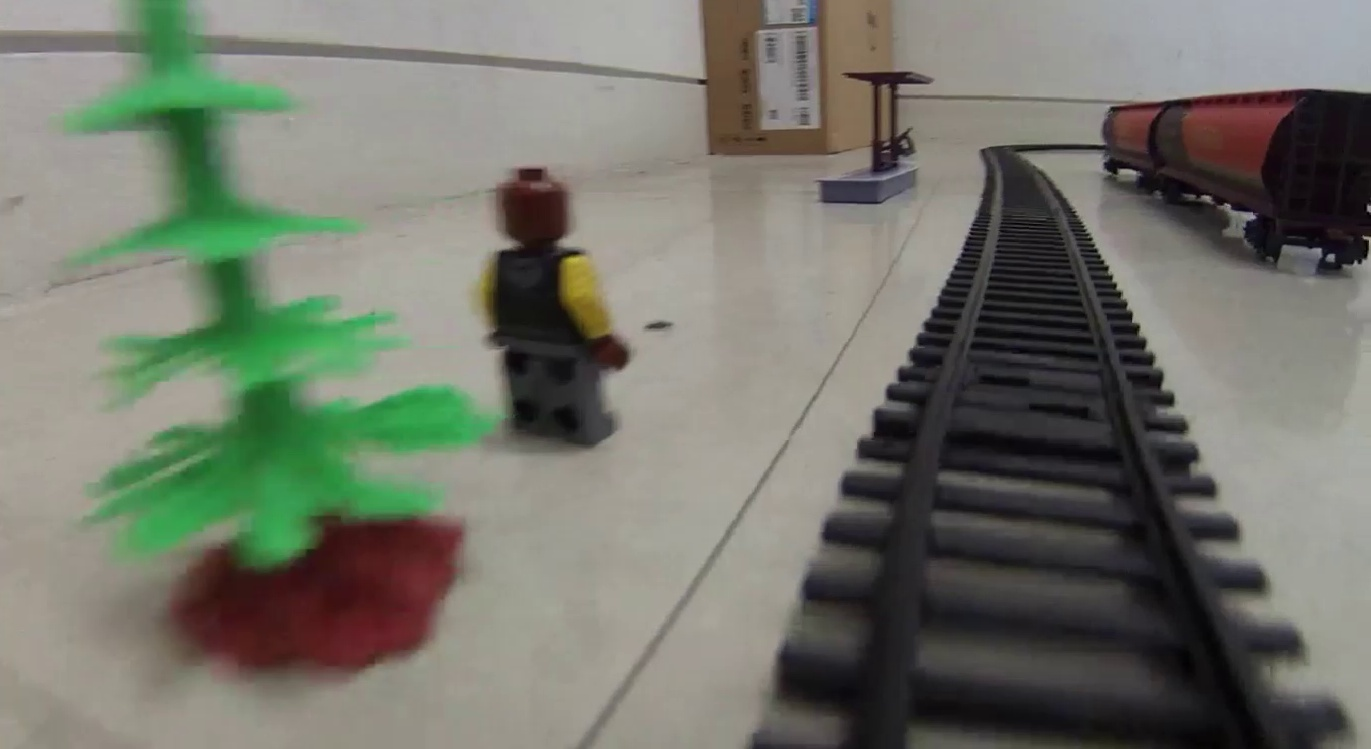people: (480, 167, 629, 446)
tree: (46, 3, 491, 680)
